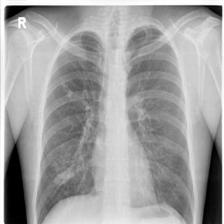tuberculosis: (31, 21, 201, 224)
